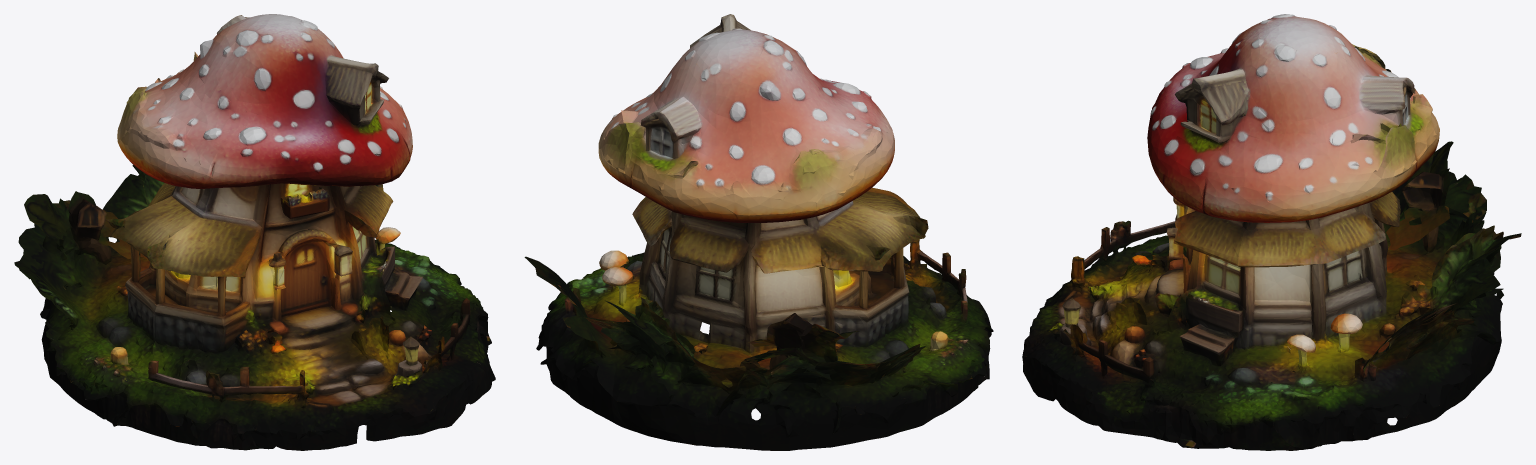
File: mushroom_house.glb
The picture shows the model from 3 angles, left to right: view 1: azimuth 30°, elevation 25°; view 2: azimuth 150°, elevation 25°; view 3: azimuth 270°, elevation 25°; orthographic projection. The views are drawn at different scales.
Visible parts, largest first — view 1: world; view 2: world; view 3: world.
Boxes of the visible parts, box(x1,y1,x2,y2) form: world: box(14, 14, 495, 450); world: box(524, 14, 993, 450); world: box(1022, 14, 1521, 450).
Size of the model in its own units: 0.9542 by 0.7503 by 0.994.
Materials: 1 (1 with a texture image).
